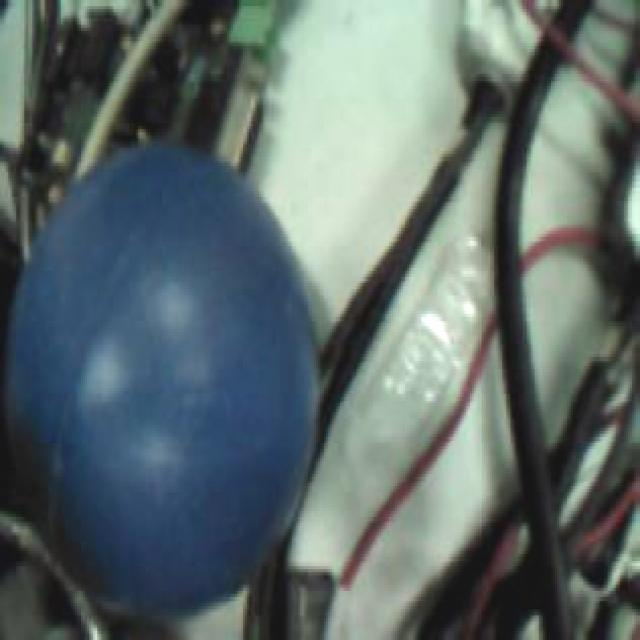BallPurple: (8, 140, 319, 618)
